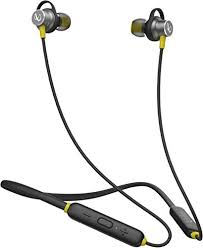earphone: (10, 1, 202, 243)
